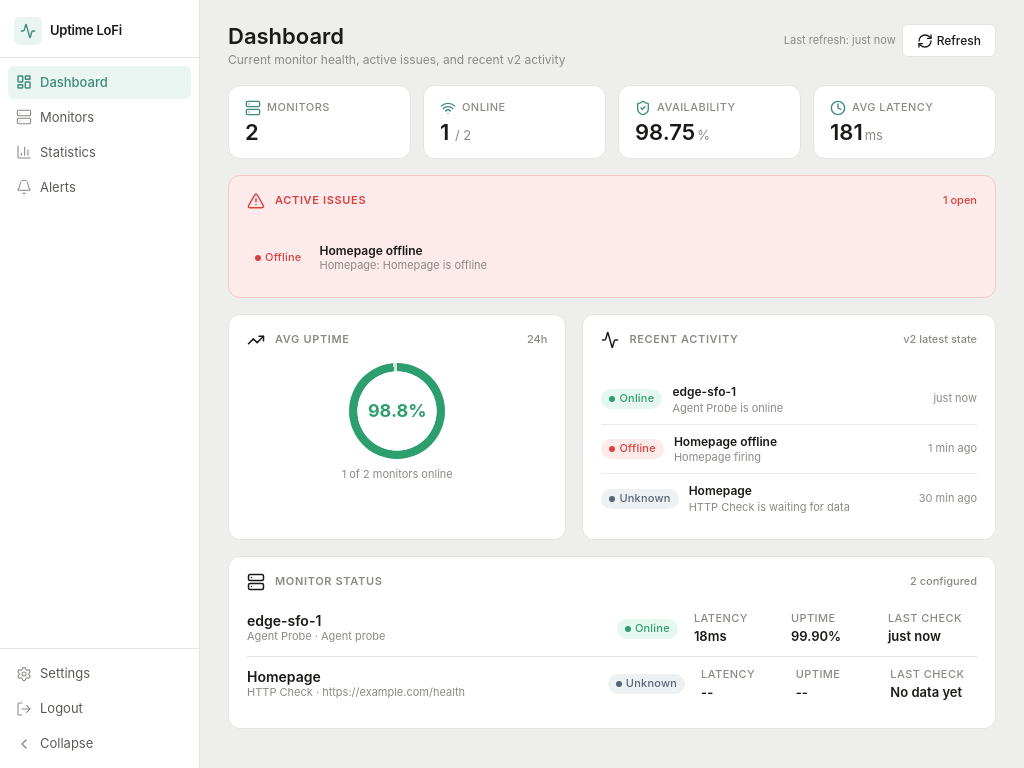
Scenario: App navigation › switches main content when v2 sidebar items are clicked
expect the heading "Dashboard" is shown: met, box [228,23,344,49]
Click the button "Monitors": (100, 117) [8,101,191,134]
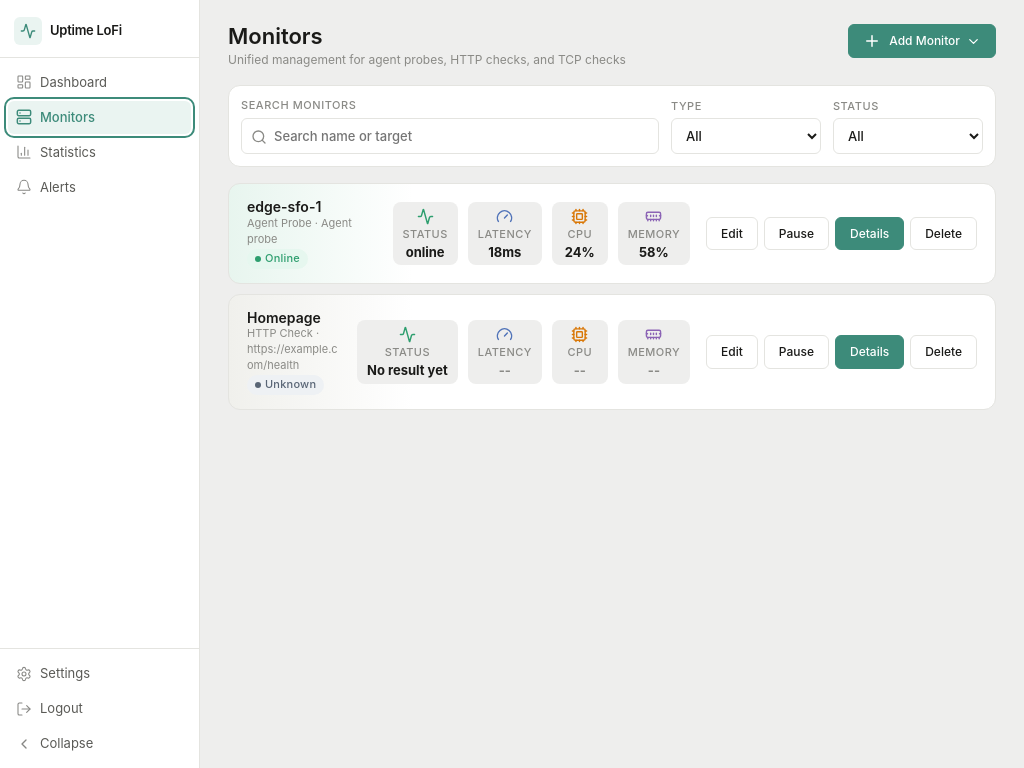
expect the heading "Monitors" is shown: met, box [228,23,323,49]
expect the text "Unified management for agent probes, HTTP checks, and TCP checks" is shown: met, box [228,51,626,69]
expect the button "Add Monitor" is shown: met, box [848,24,996,58]
Click the button "Statistics": (100, 152) [8,136,191,168]
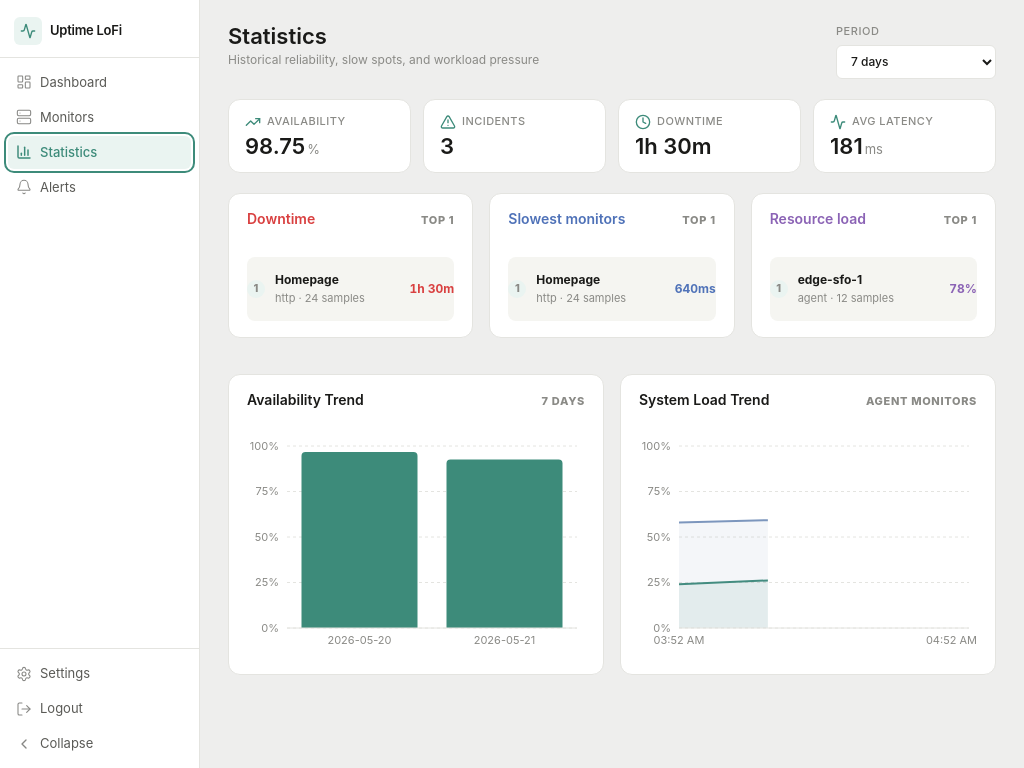
expect the heading "Statistics" is shown: met, box [228,23,327,49]
